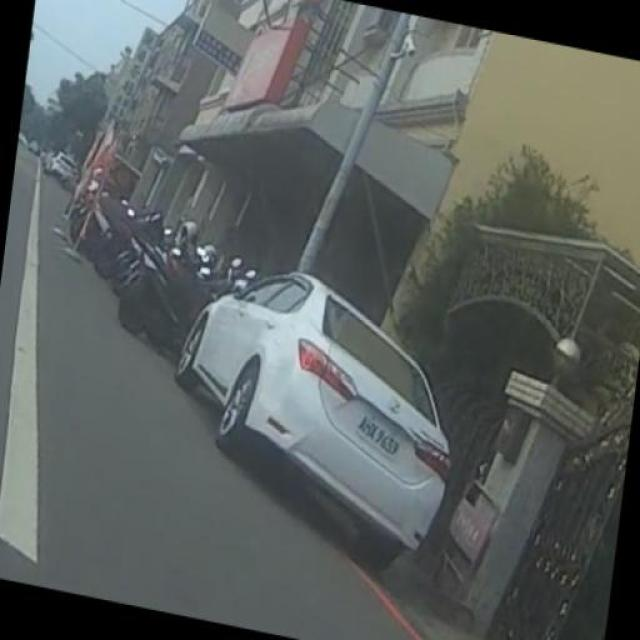Legalparking: (70, 155, 470, 551)
